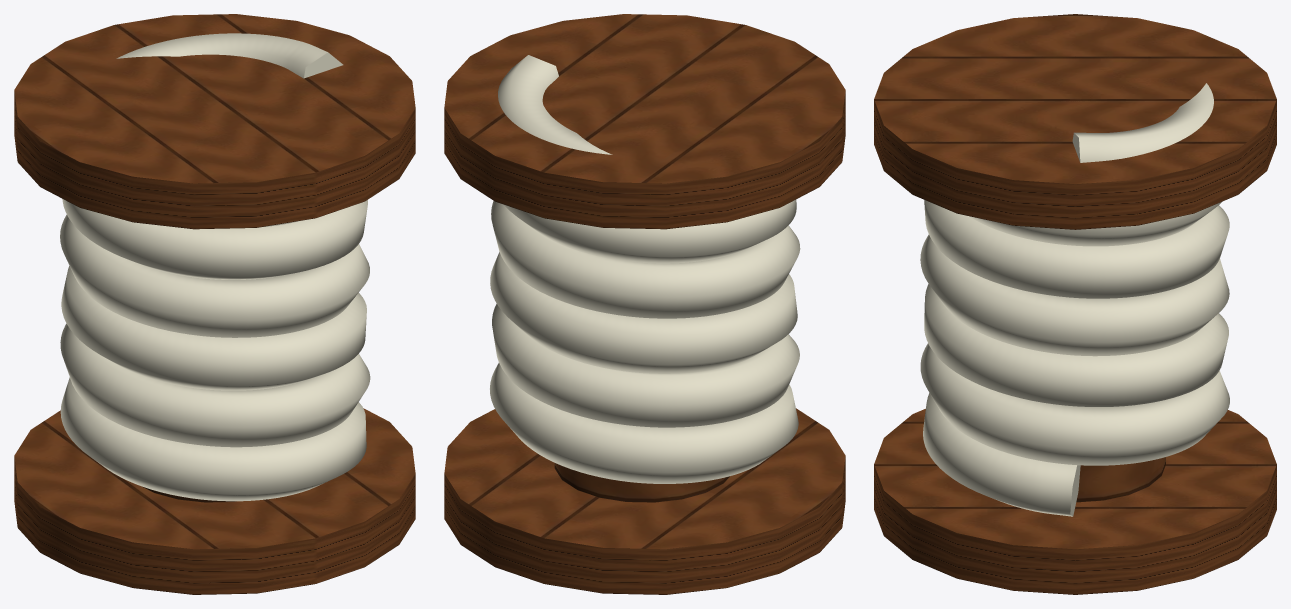
File: primitive-crafting-workshop-cordage-spool-8141d2dd__21553.glb
The picture shows the model from 3 angles, left to right: view 1: azimuth 30°, elevation 25°; view 2: azimuth 150°, elevation 25°; view 3: azimuth 270°, elevation 25°; orthographic projection.
Visible parts, largest first — view 1: cordage-spool; view 2: cordage-spool; view 3: cordage-spool.
Part boxes in pixels (x1,y1,x2,y2): cordage-spool: [14, 14, 415, 594]; cordage-spool: [444, 14, 845, 594]; cordage-spool: [874, 14, 1276, 594].
Bounding box in the file's own units: 0.2 × 0.2344 × 0.2.
Materials: 2 (1 with a texture image).
